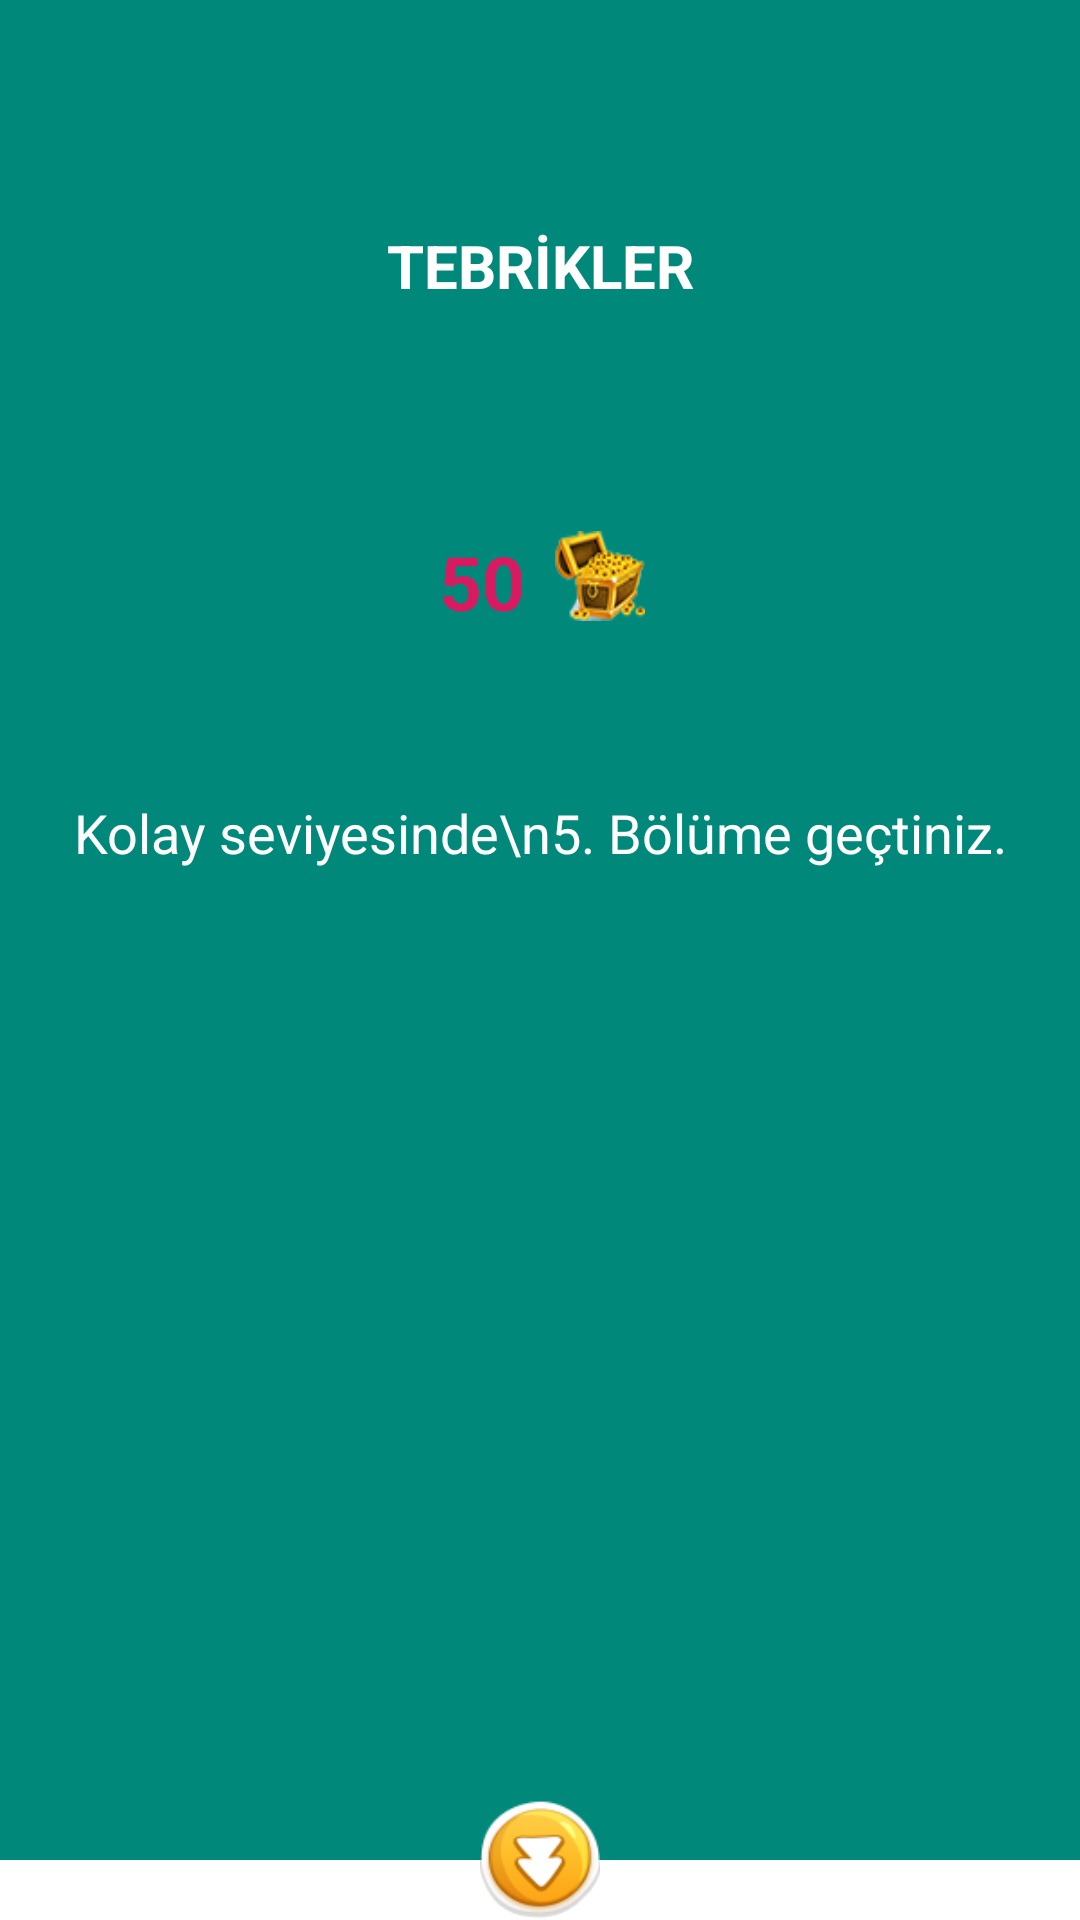

Where to tap for icons on this 1080px×1920px app screen, as (x=x, y=y):
treasure: (x=600, y=576)
